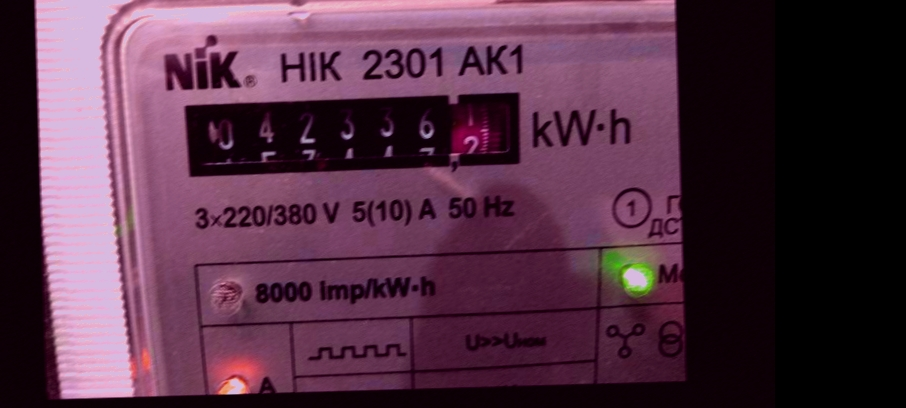0: (214, 113, 235, 149)
1: (462, 98, 476, 127)
2: (295, 107, 316, 144), (460, 131, 479, 153)
3: (336, 102, 356, 141), (374, 101, 395, 137)
4: (255, 105, 275, 143)
6: (413, 103, 436, 138)
screen: (175, 80, 530, 183)
